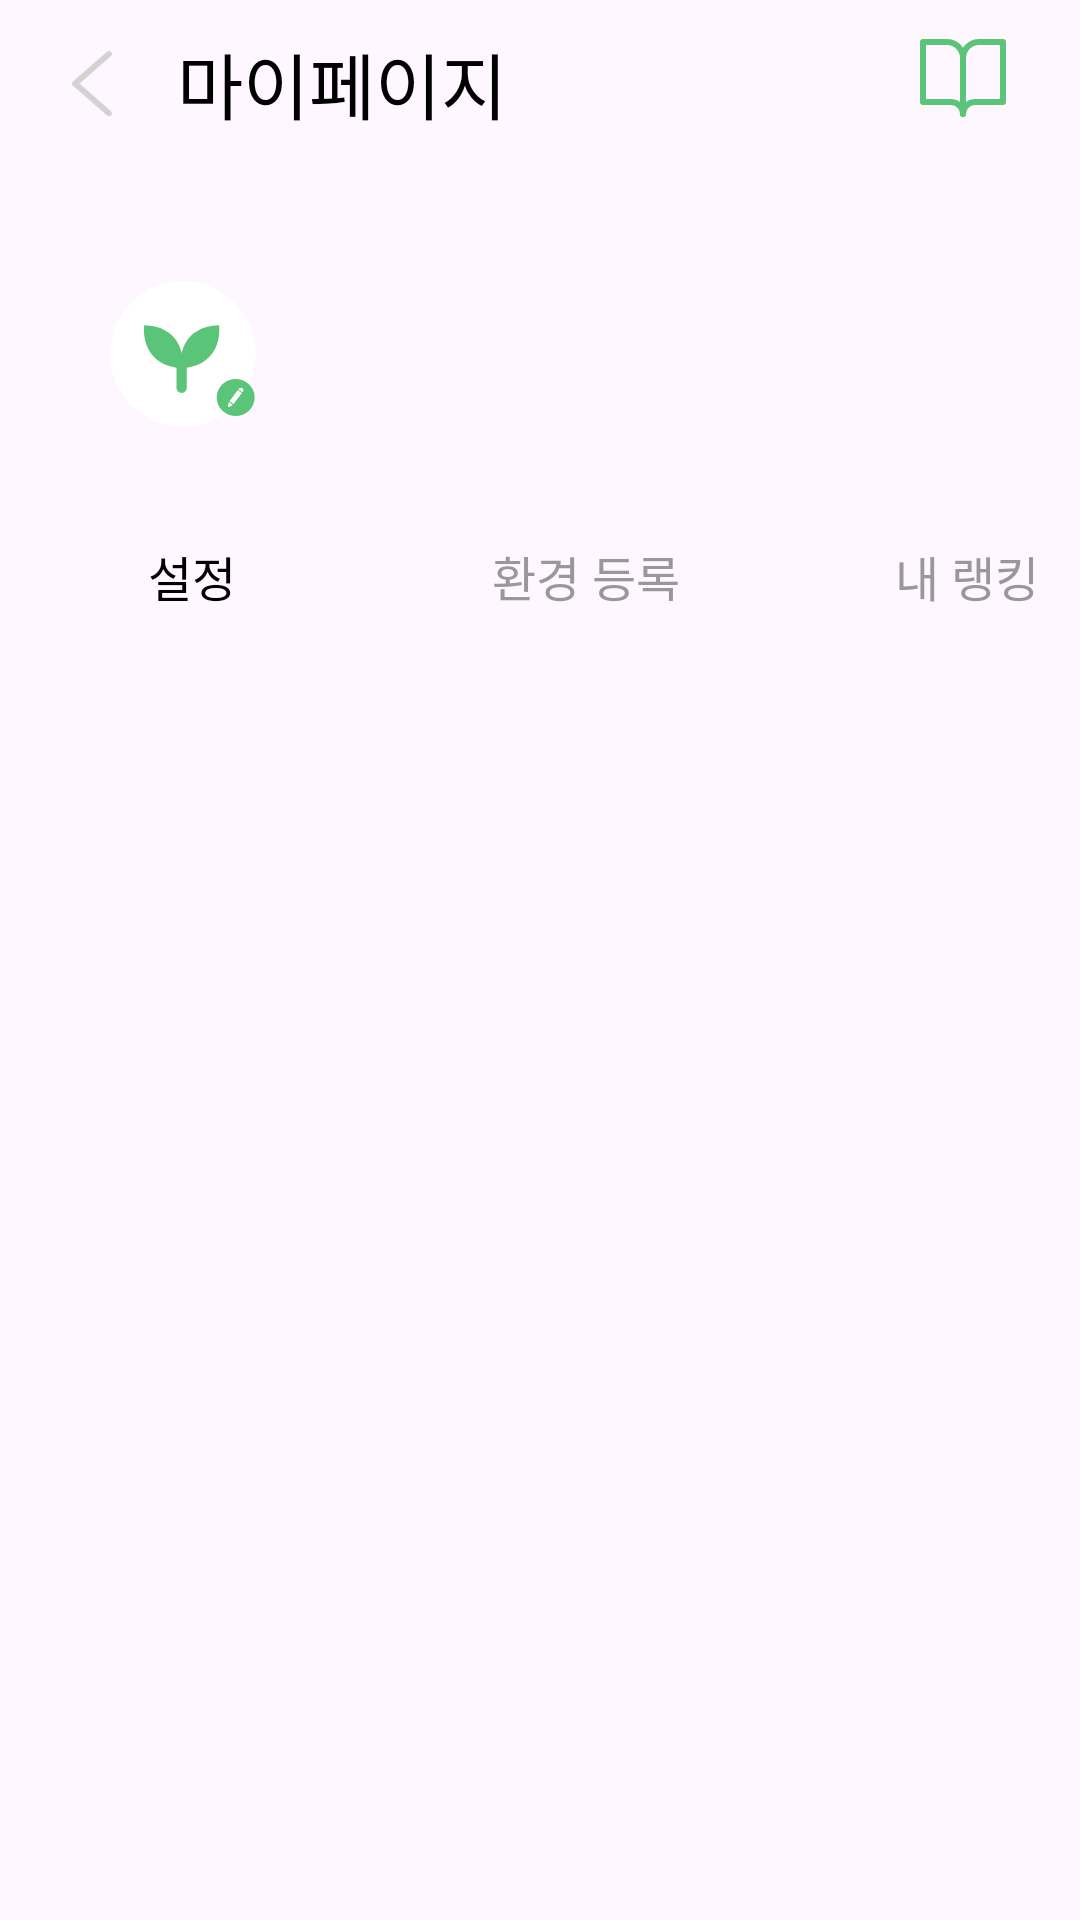

Named icons in this screenshot (1080px x 1920px) and their bounding boxes, (x1, y1, x2, y2):
mypage arrow: (72, 51, 112, 116)
mypage book: (920, 39, 1006, 117)
